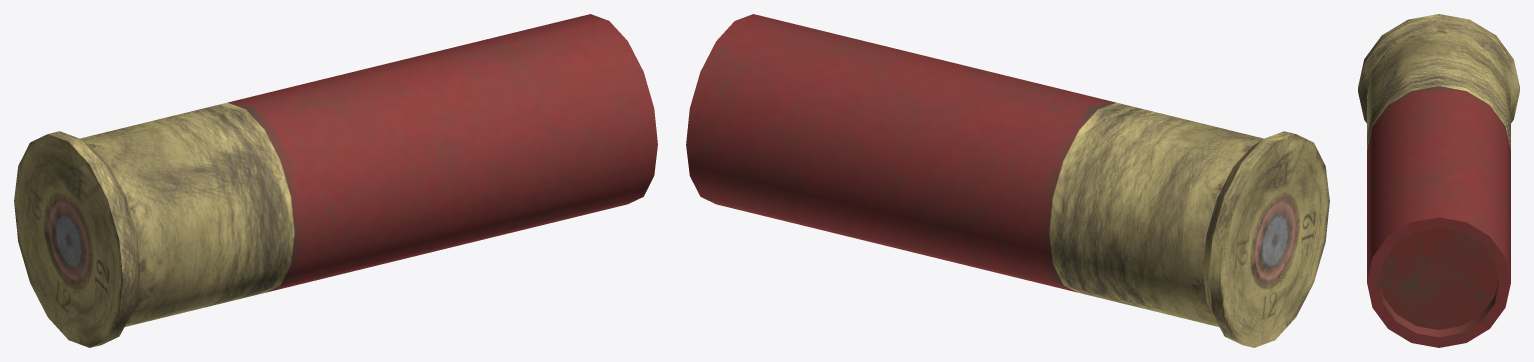
Rendered from ammo.glb.
The picture shows the model from 3 angles, left to right: view 1: azimuth 30°, elevation 25°; view 2: azimuth 150°, elevation 25°; view 3: azimuth 270°, elevation 25°; orthographic projection. The views are drawn at different scales.
Visible parts, largest first — view 1: gauge_low; view 2: gauge_low; view 3: gauge_low.
Boxes of the visible parts, x1,y1,x2,y2 form: gauge_low: (14, 14, 657, 347); gauge_low: (686, 14, 1329, 347); gauge_low: (1358, 14, 1519, 347).
Size of the model in its own units: 0.947 by 0.3321 by 0.3321.
Materials: 1 (1 with a texture image).
